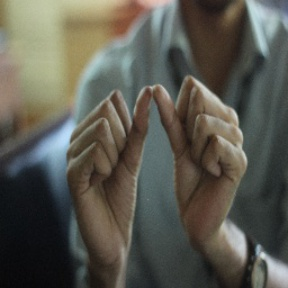A: (81, 76, 226, 210)
